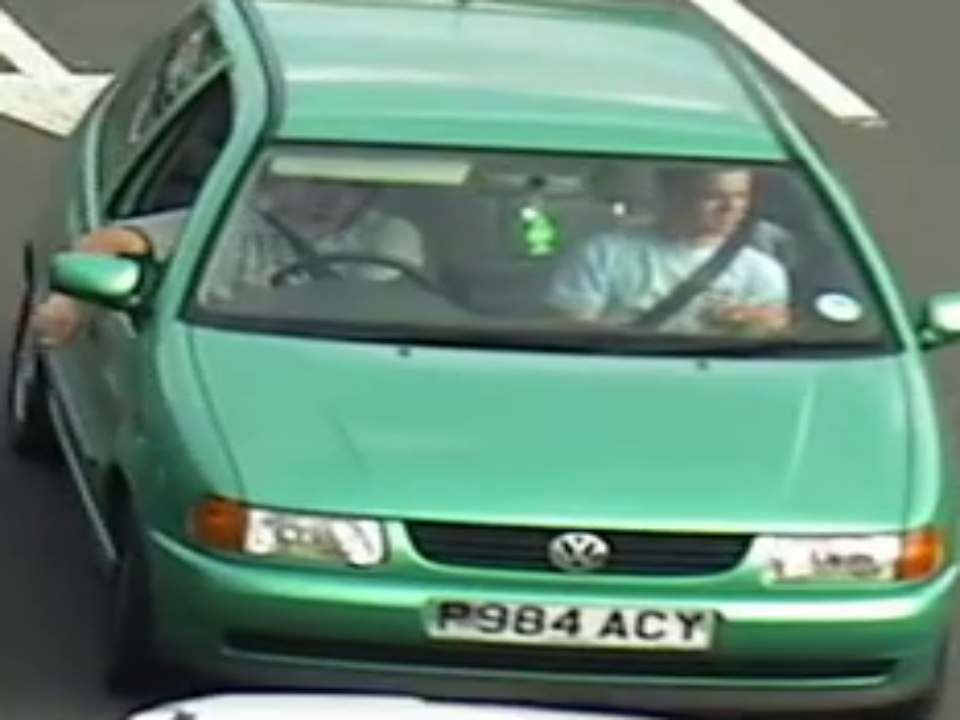TWO: (223, 136, 872, 357)
